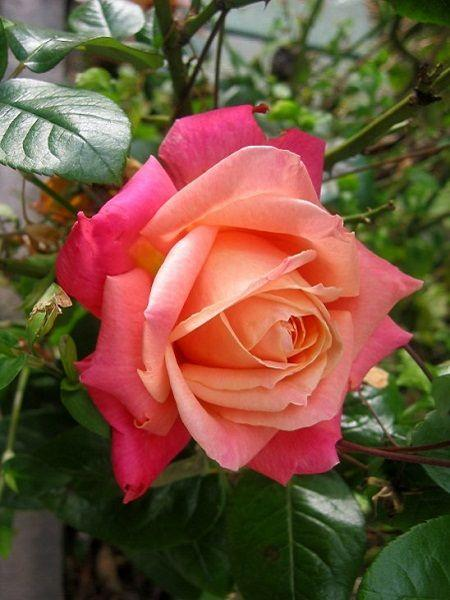Rose: (53, 94, 428, 524)
